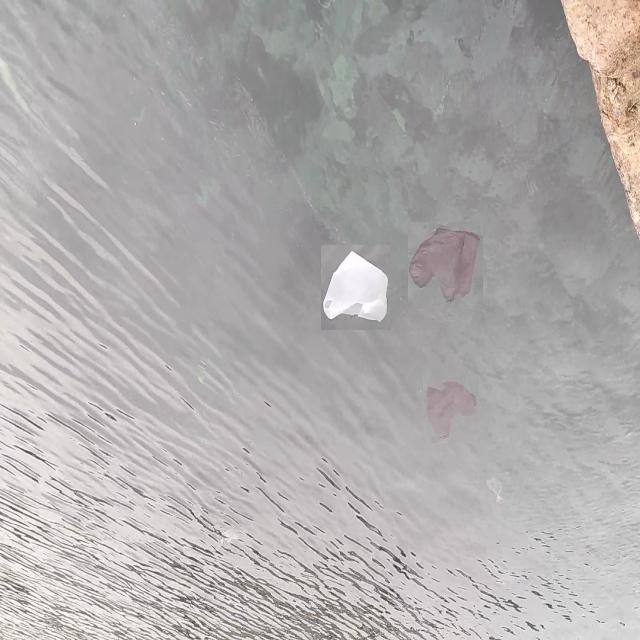Plastic bag: (408, 222, 483, 309), (321, 245, 391, 330), (423, 376, 479, 443), (484, 468, 514, 510)
